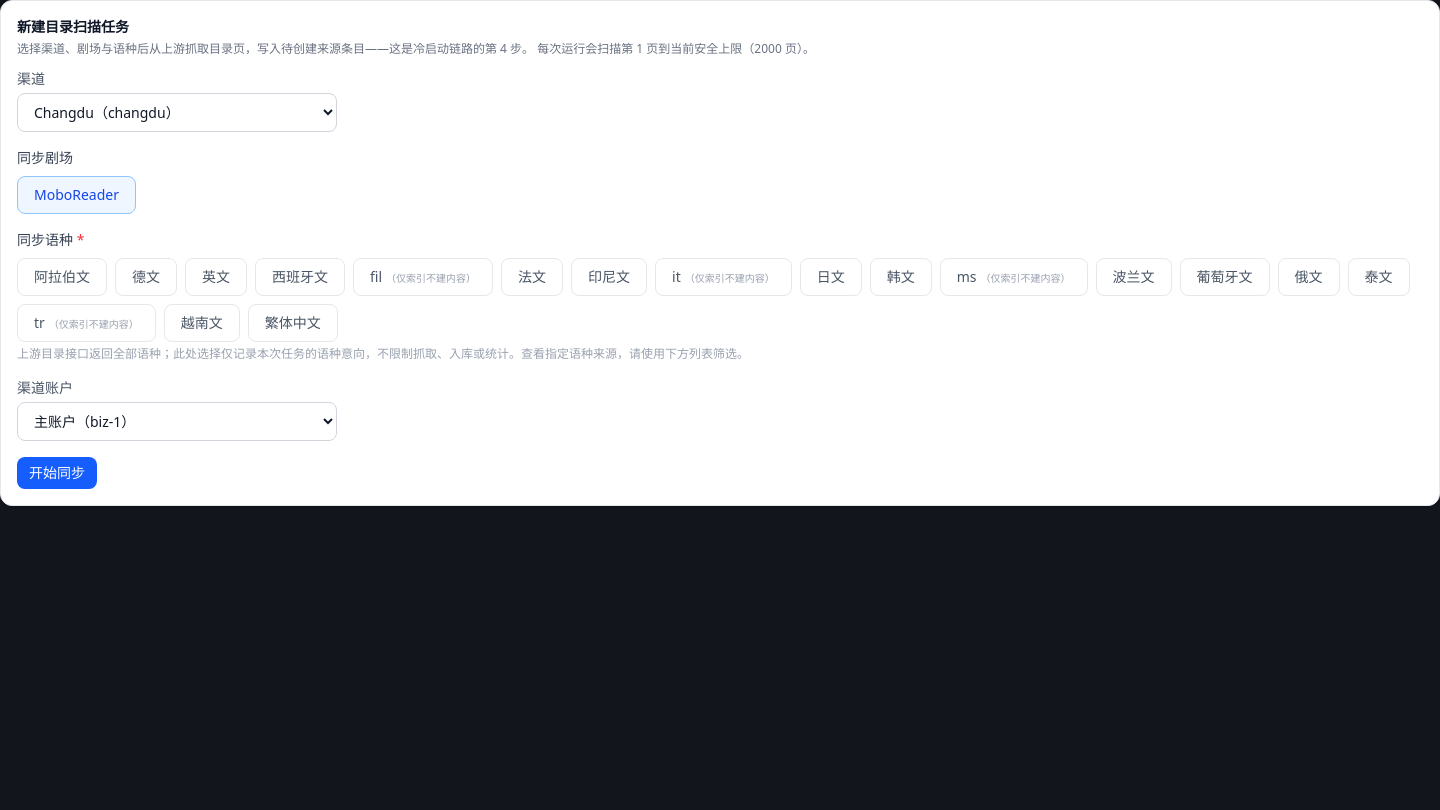
Test case: 守卫失败 / 输入校验失败——各自独立呈现，不是笼统的失败提示 › access_denied：文案来自 errorEnvelopeCopy，能力位名称清晰可读
Click the button "英文". click: (216, 277)
box: [185,258,247,296]
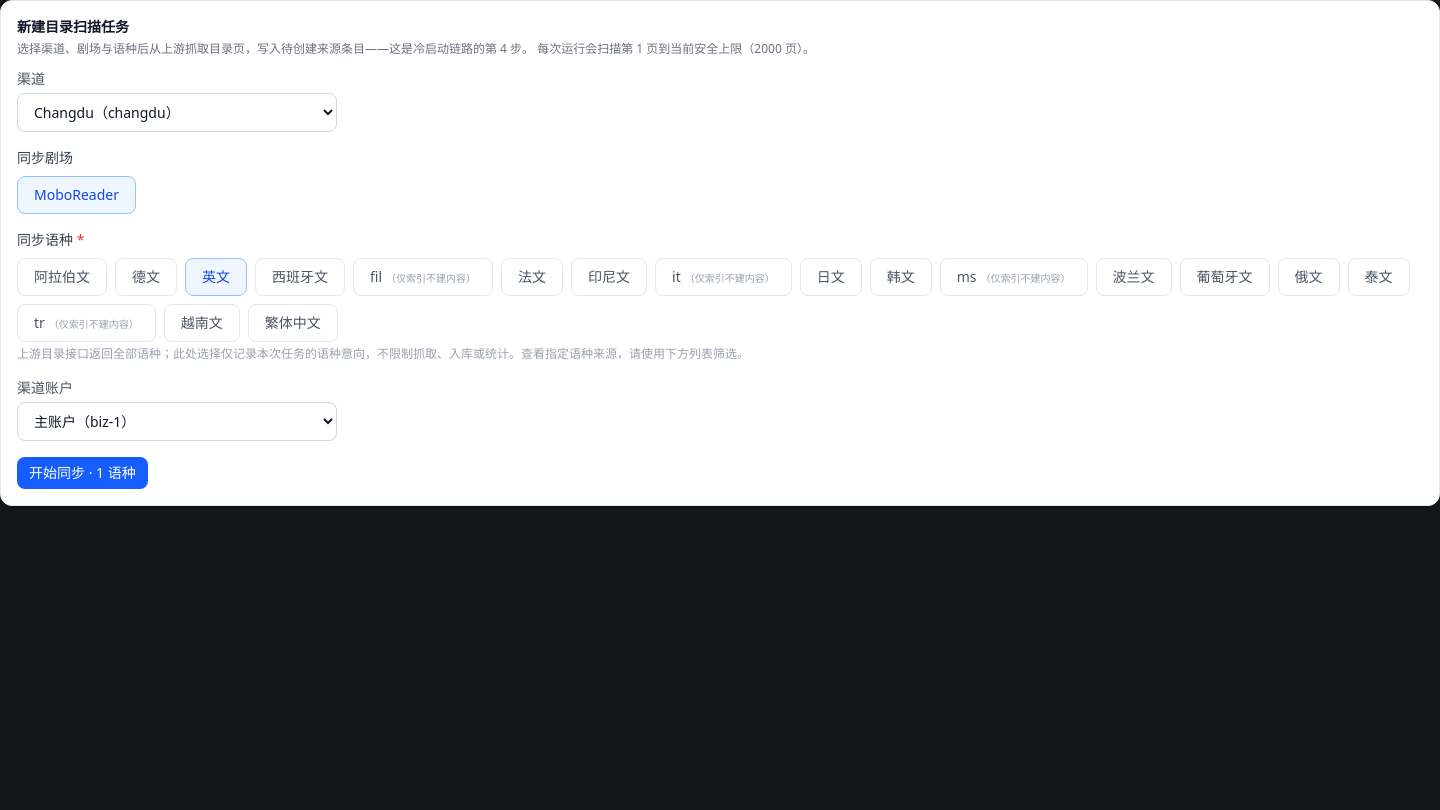
Click the button "开始同步 · 1 语种". click: (82, 473)
box: [17,457,148,489]
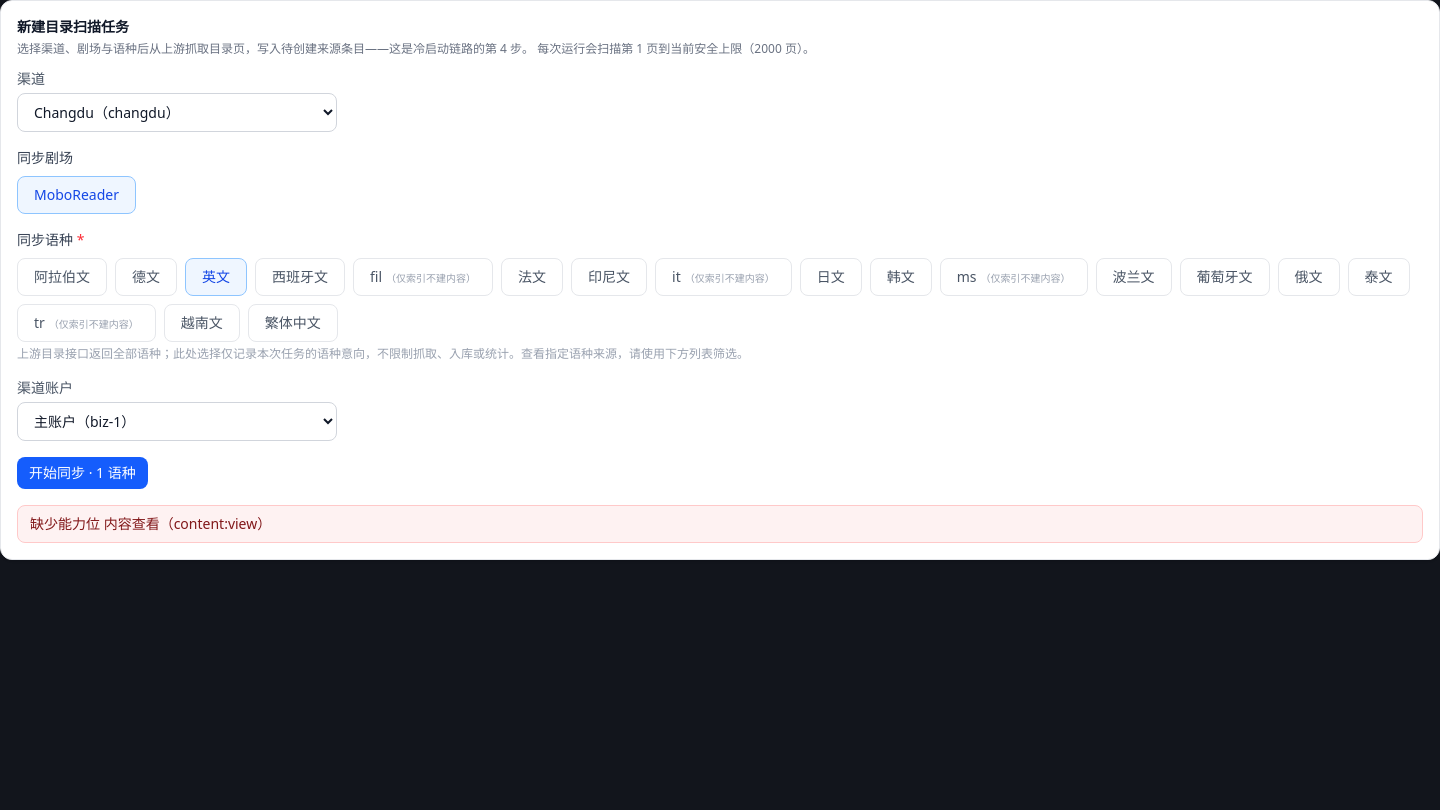
Check: the message reads "缺少能力位 内容查看（content:view）", box [30,514,271,533]
